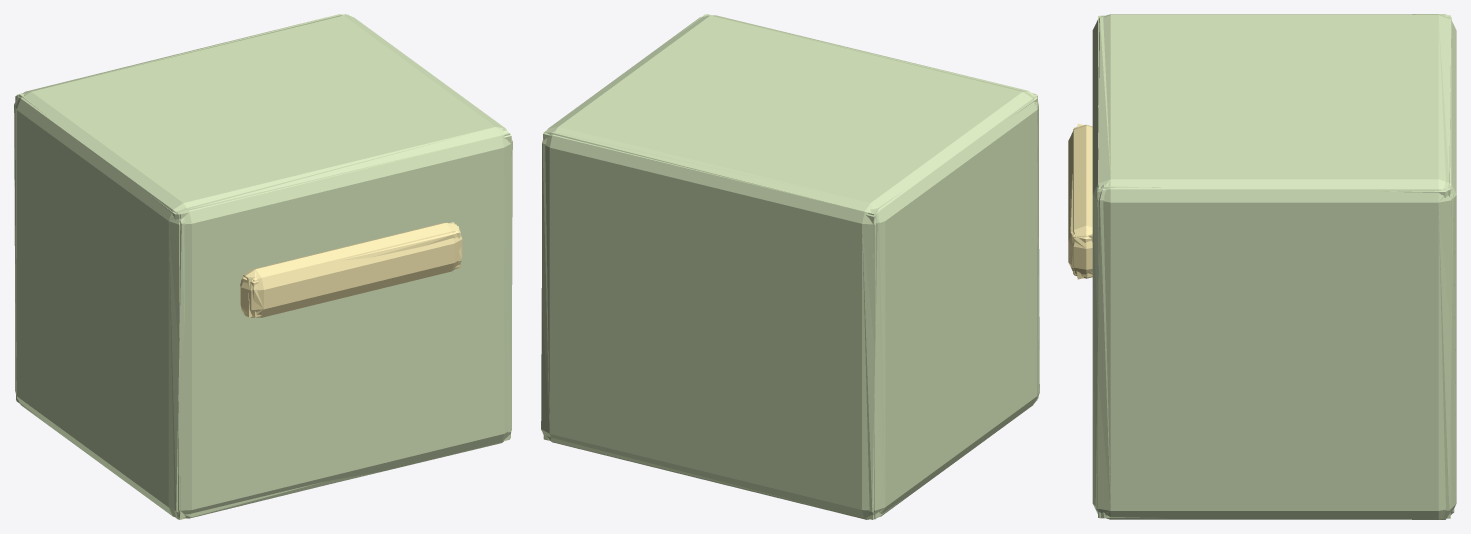
The model's file is SM_Spitter.fbx.
3 views of the same model, side by side, from view 1: azimuth 30°, elevation 25°; view 2: azimuth 150°, elevation 25°; view 3: azimuth 270°, elevation 25° (orthographic). The views are drawn at different scales.
Parts seen in each view (by area): view 1: SM_Spitter, LOD1_SM_Spitter, LOD2_SM_Spitter; view 2: SM_Spitter, LOD1_SM_Spitter, LOD2_SM_Spitter; view 3: SM_Spitter, LOD1_SM_Spitter, LOD2_SM_Spitter.
Boxes of the visible parts, box(x1,y1,x2,y2) form: SM_Spitter: box(15, 15, 511, 518); LOD1_SM_Spitter: box(14, 14, 512, 518); LOD2_SM_Spitter: box(15, 14, 511, 519); SM_Spitter: box(542, 15, 1038, 518); LOD1_SM_Spitter: box(541, 15, 1039, 519); LOD2_SM_Spitter: box(542, 14, 1038, 519); SM_Spitter: box(1068, 14, 1456, 519); LOD1_SM_Spitter: box(1070, 15, 1456, 518); LOD2_SM_Spitter: box(1072, 14, 1454, 519).
Size of the model in its own units: 0.252 by 0.2223 by 0.2304.
